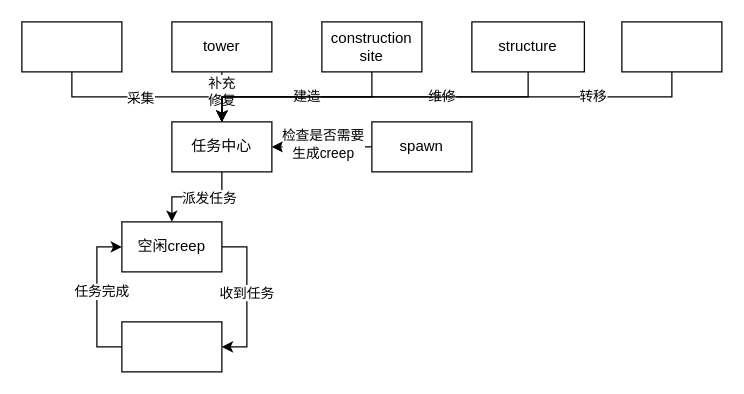
Image size: 744x394. Some labels were removed from this diagram. Here are the shapes that lost their labels. From the top down, the box of each, then its label:
(21, 21, 122, 72): resource
(621, 21, 722, 72): container
(121, 321, 222, 372): 任务中creep
